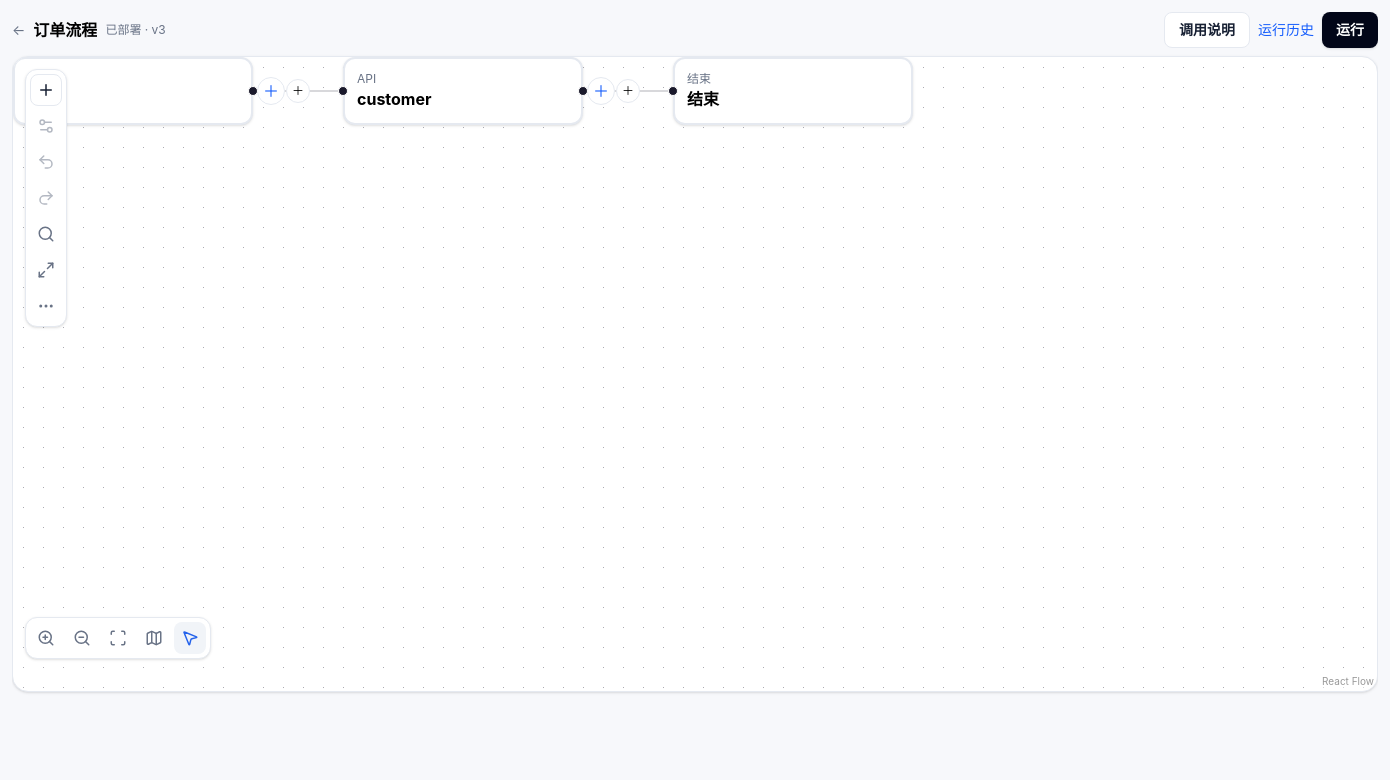
it: workflow editor › retains edits made while an earlier save is pending
The width and height of the screenshot is (1390, 780).
Step 1. Click the button with aria-label "配置工作流" → (65, 30), box [33,18,97,42]
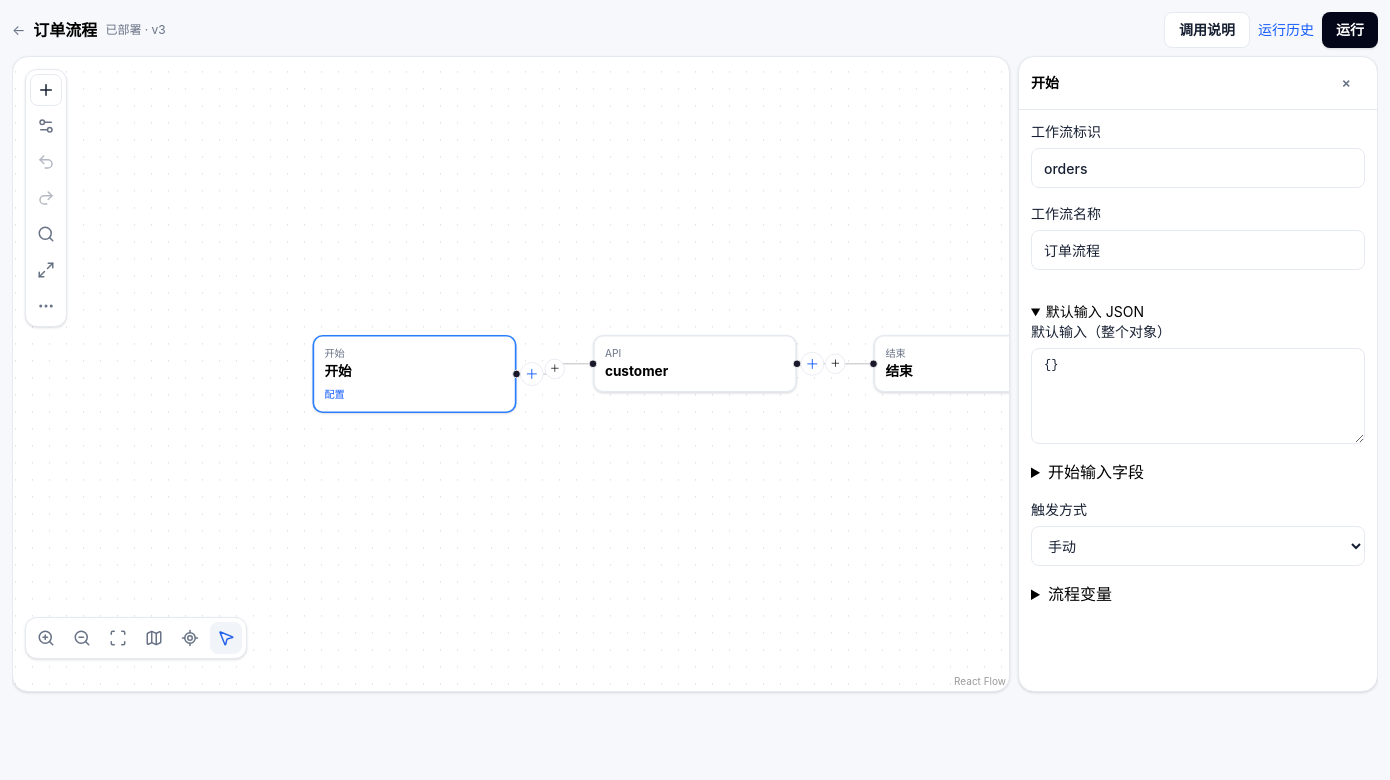
Step 2. Replace the text in the field labelled "工作流名称" with "提交 A" → (1198, 250), box [1031,230,1365,270]
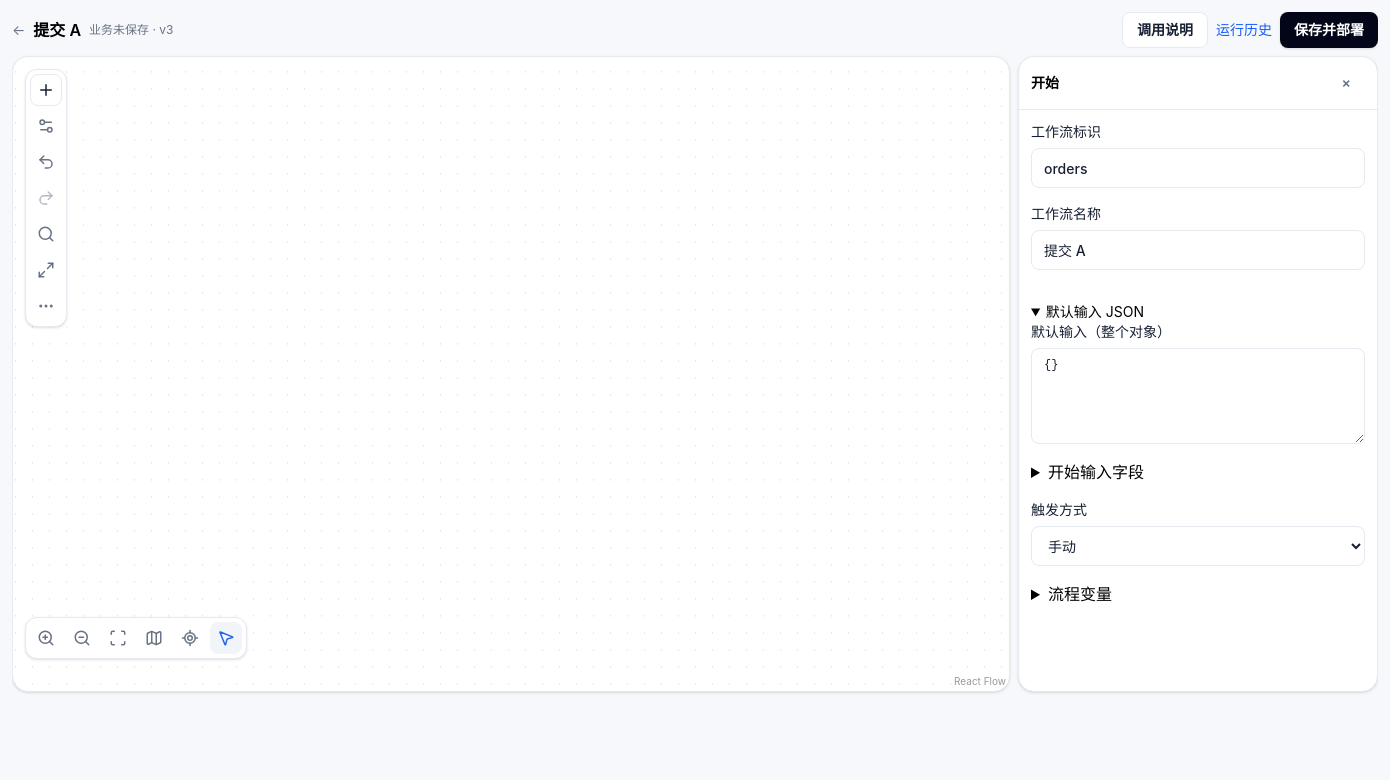
Step 3. Click the button "保存并部署" → (1329, 30), box [1280,12,1378,48]
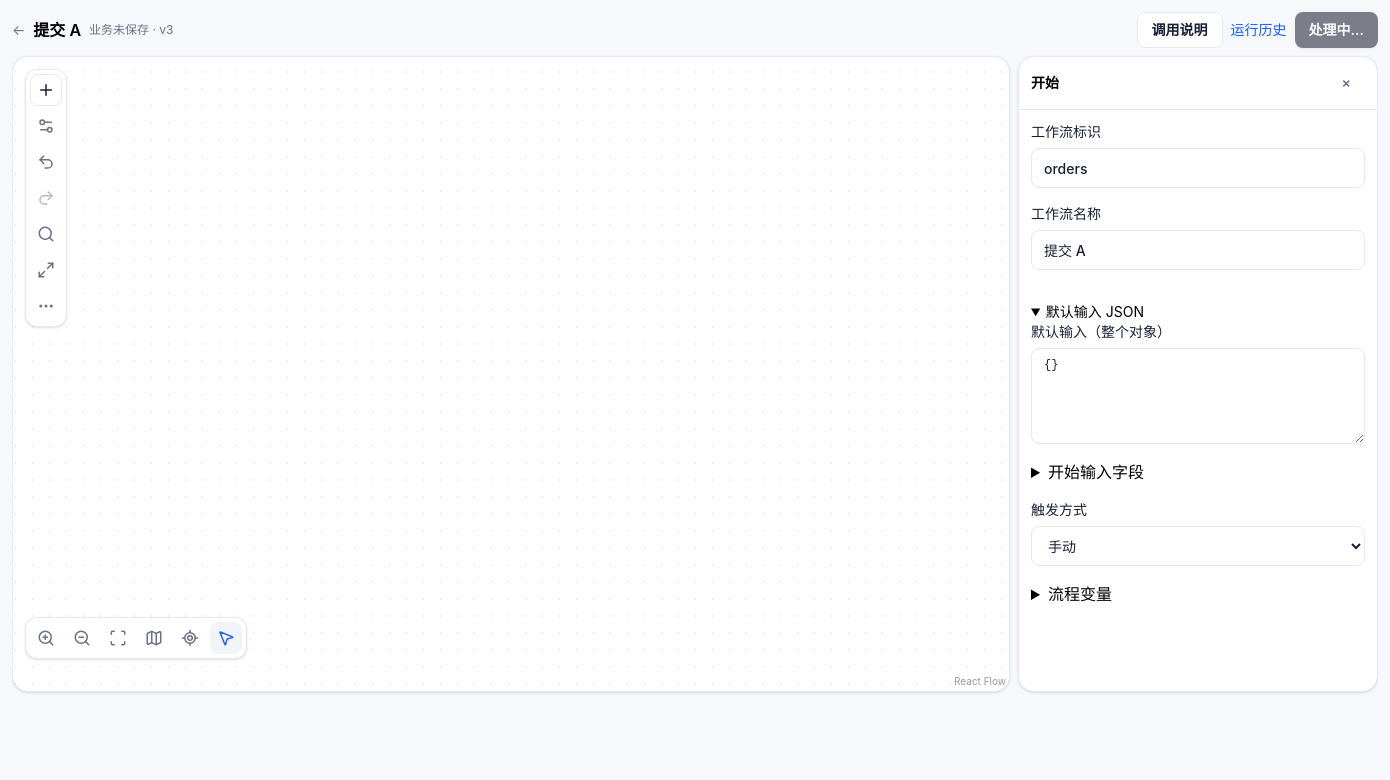
Step 4. Replace the text in the field labelled "工作流名称" with "后续 B" → (1198, 250), box [1031,230,1365,270]
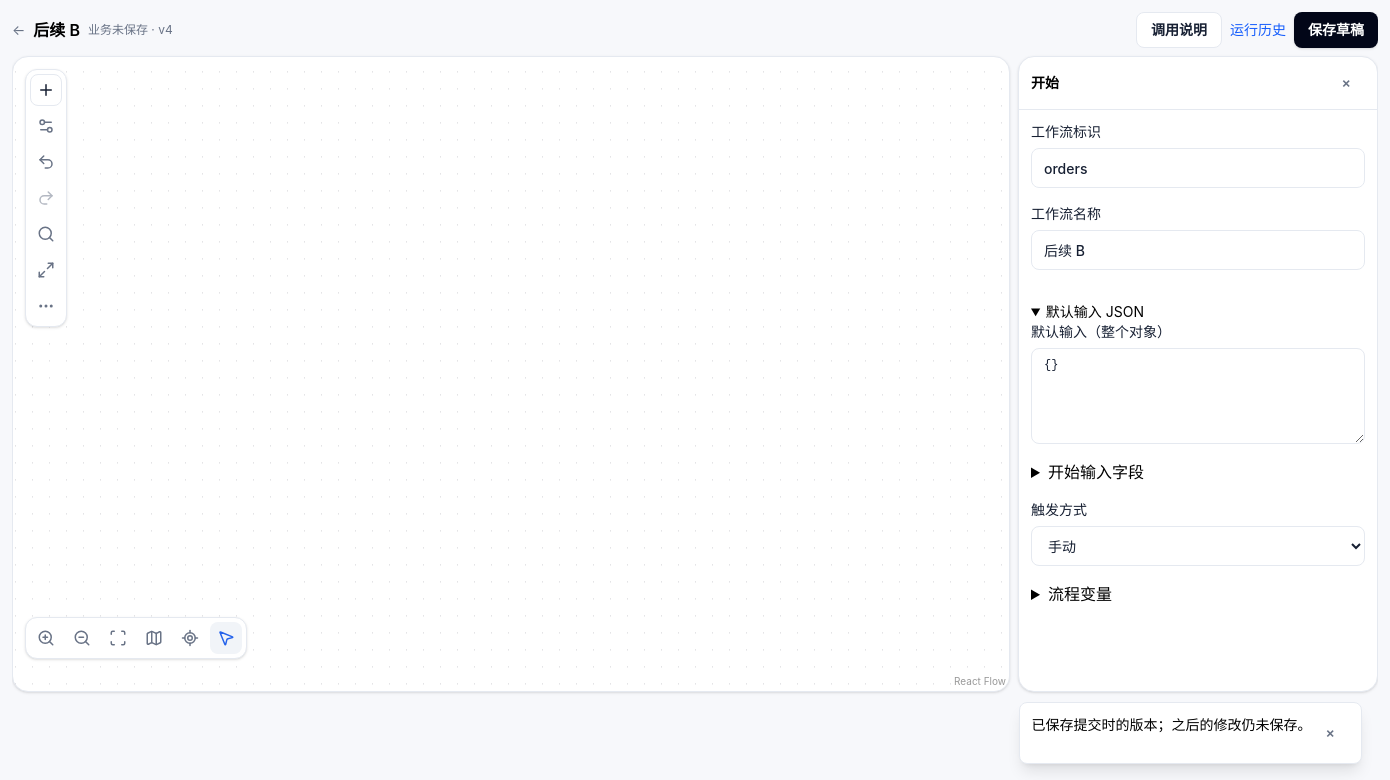
Expected: the text "× 已保存提交时的版本；之后的修改仍未保存。" is shown, [1019,702,1362,764]
